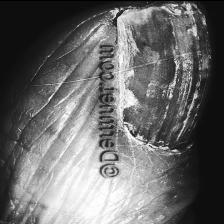Toxin: (122, 0, 199, 152)
